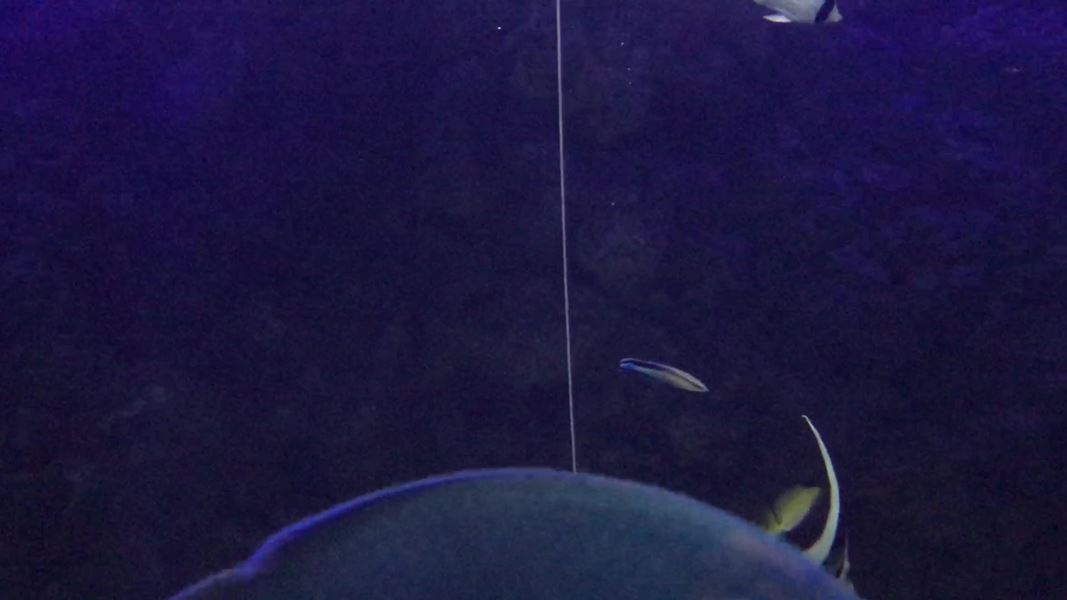Bluesteak cleaner wrasse: (609, 345, 716, 412)
